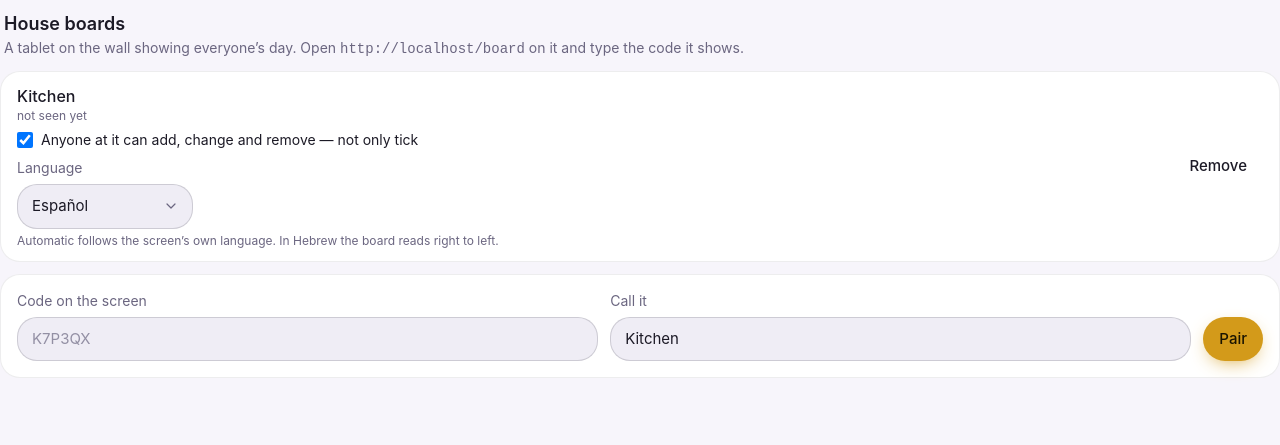
Scenario: house boards › keeps the language it had when the change does not go through, and says why
Select "English" in the dropdown labelled "Language" at (105, 206), box [17,184,193,228]
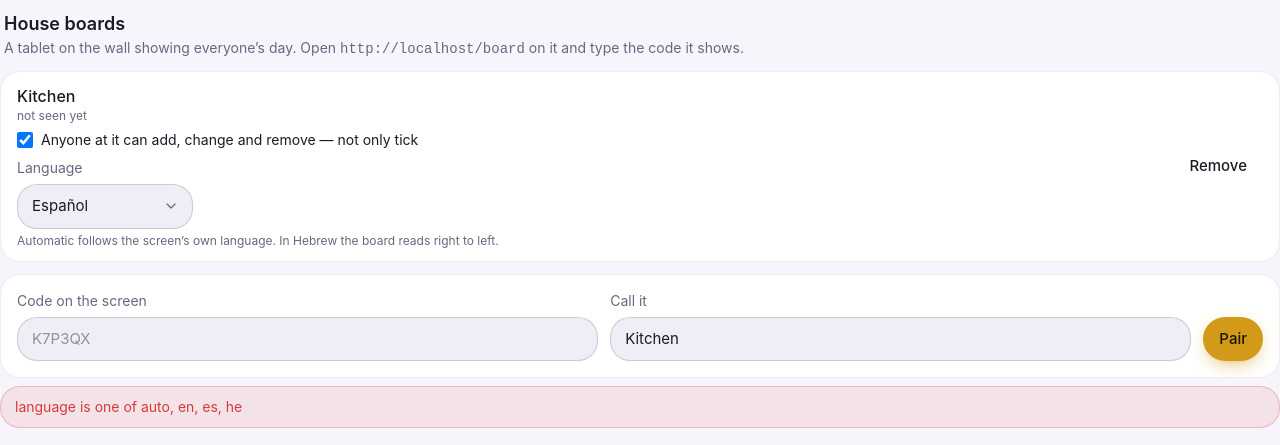
Now the text "language is one of auto, en, es, he" is shown, box [0,386,1279,428]
